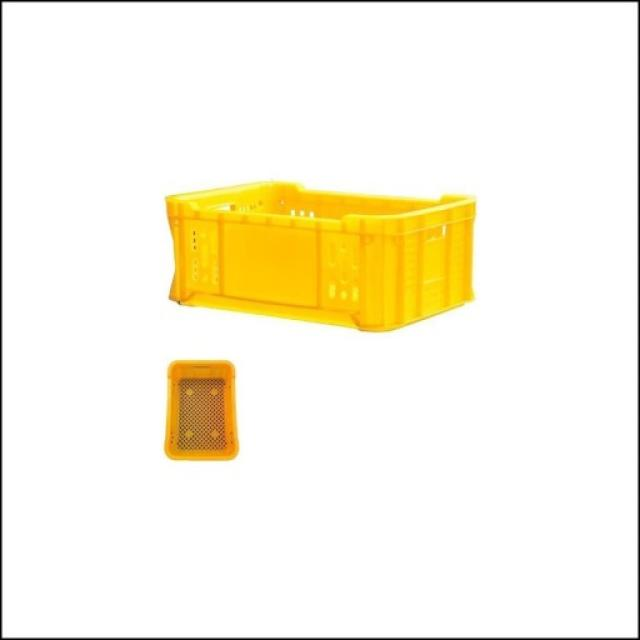basket: (157, 172, 482, 340), (166, 361, 239, 461)
